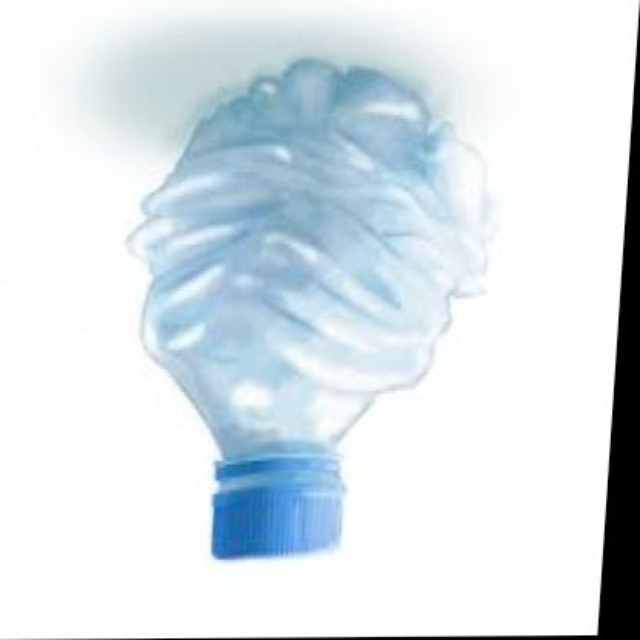trash: (129, 58, 485, 557)
